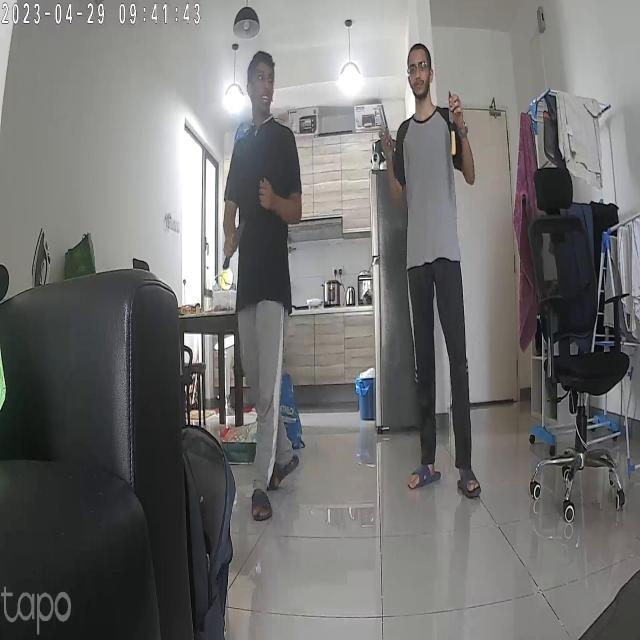Knife: (211, 219, 254, 267), (368, 102, 399, 160)
